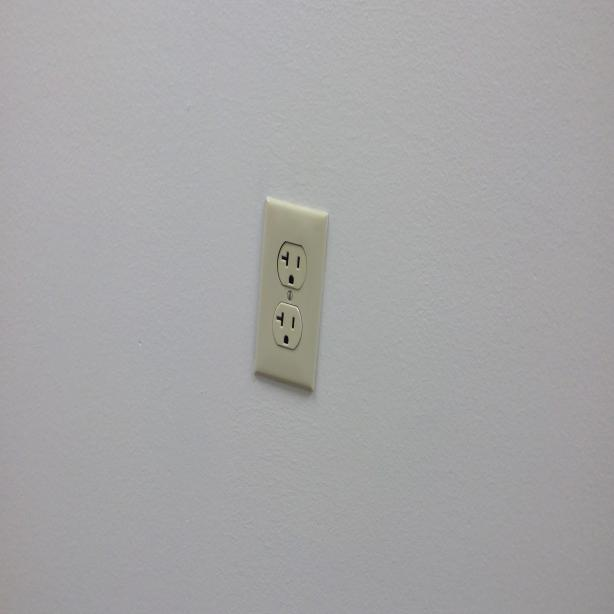typeb: (270, 301, 304, 354), (273, 241, 308, 289)
